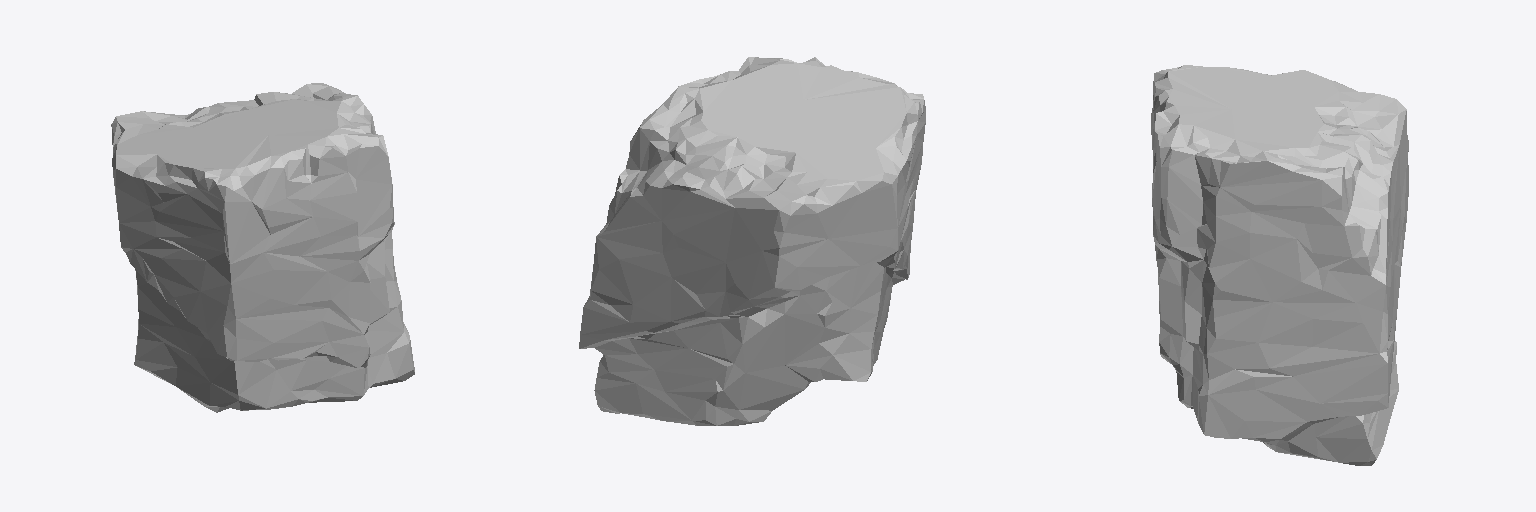
The model's file is Free_rock.obj.
3 renders of one model, left to right at view 1: azimuth 30°, elevation 25°; view 2: azimuth 150°, elevation 25°; view 3: azimuth 270°, elevation 25°, orthographic.
Parts seen in each view (by area): view 1: Free_rock; view 2: Free_rock; view 3: Free_rock.
Part boxes in pixels (bbox=[...]): Free_rock: bbox=[111, 83, 414, 412]; Free_rock: bbox=[579, 57, 925, 425]; Free_rock: bbox=[1151, 65, 1408, 465].
Size of the model in its own units: 15.72 by 16.82 by 13.07.